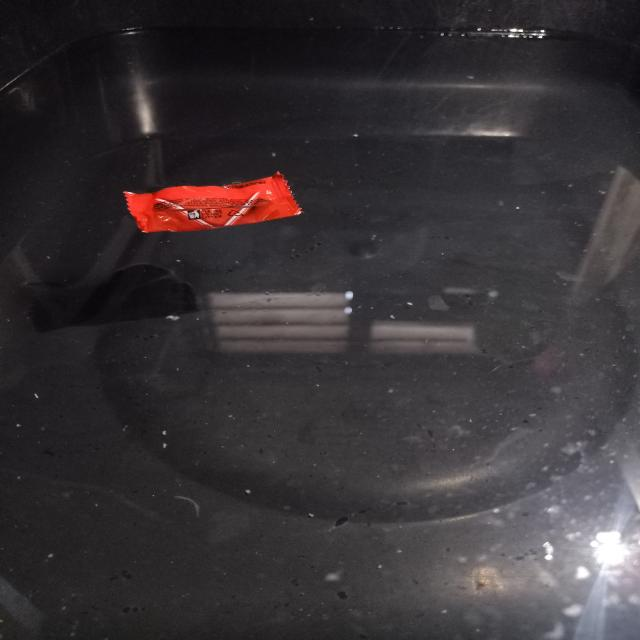Plastic Wrapper: (124, 172, 302, 232)
